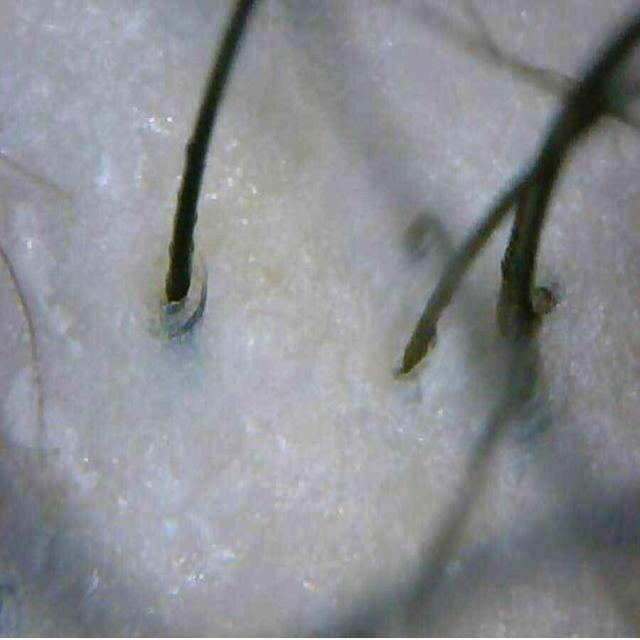o: (158, 509, 239, 591), (203, 138, 257, 210), (130, 104, 175, 144), (92, 154, 112, 189)
